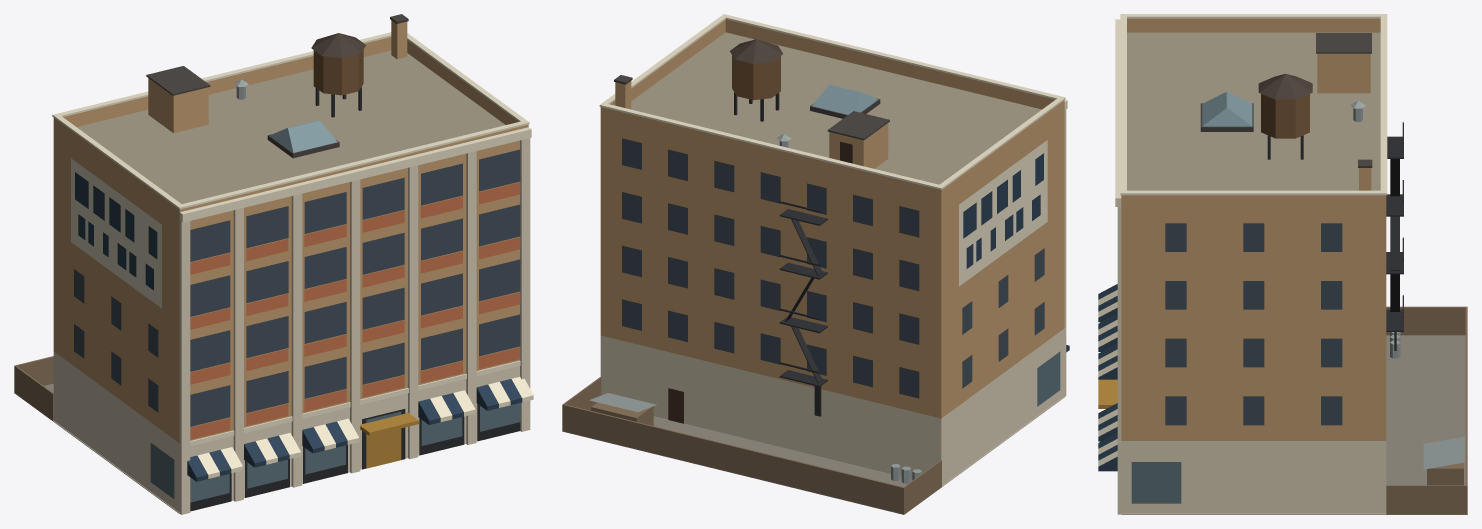
Rendered from office_wc.glb.
The picture shows the model from 3 angles, left to right: view 1: azimuth 30°, elevation 25°; view 2: azimuth 150°, elevation 25°; view 3: azimuth 270°, elevation 25°; orthographic projection. The views are drawn at different scales.
Visible parts, largest first — view 1: office_wc; view 2: office_wc; view 3: office_wc.
Boxes of the visible parts, <box> form: office_wc: <box>14,14,533,514</box>; office_wc: <box>562,14,1069,514</box>; office_wc: <box>1098,14,1467,514</box>.
Bounding box in the file's own units: 20 × 19.96 × 17.42.
